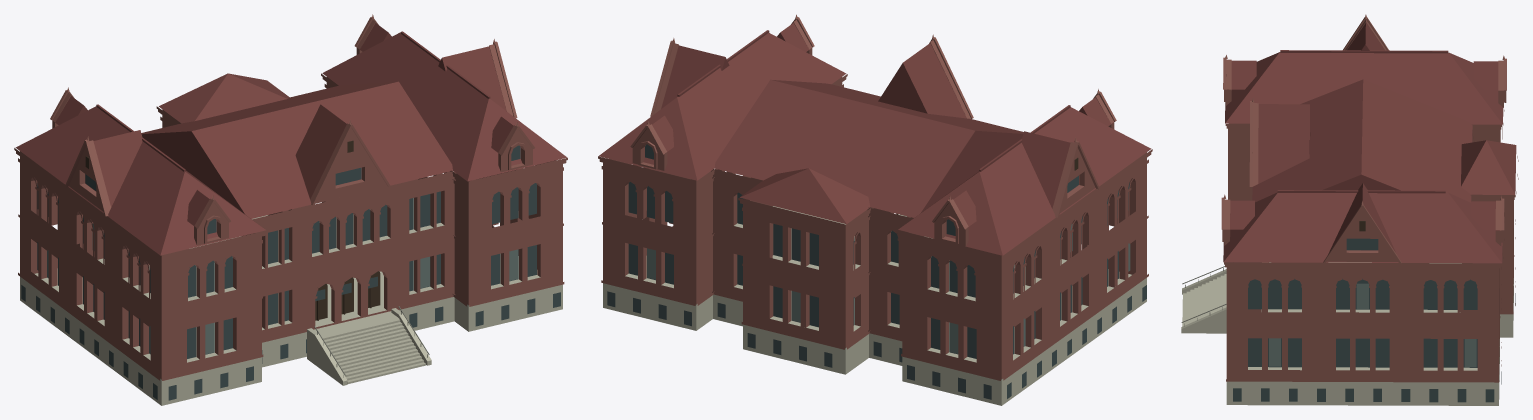
Rendered from old-orange-county-courthouse-far.glb.
3 views of the same model, side by side, from view 1: azimuth 30°, elevation 25°; view 2: azimuth 150°, elevation 25°; view 3: azimuth 270°, elevation 25° (orthographic). The views are drawn at different scales.
Visible parts, largest first — view 1: old-orange-county-courthouse-0-sandstone, old-orange-county-courthouse-0-roof, old-orange-county-courthouse-0-granite, old-orange-county-courthouse-0-glass, old-orange-county-courthouse-0-wood, old-orange-county-courthouse-0-glow; view 2: old-orange-county-courthouse-0-sandstone, old-orange-county-courthouse-0-roof, old-orange-county-courthouse-0-granite, old-orange-county-courthouse-0-glass, old-orange-county-courthouse-0-glow; view 3: old-orange-county-courthouse-0-roof, old-orange-county-courthouse-0-sandstone, old-orange-county-courthouse-0-granite, old-orange-county-courthouse-0-glass, old-orange-county-courthouse-0-glow.
Part boxes in pixels (<box>): old-orange-county-courthouse-0-sandstone: <box>14,14,567,380</box>; old-orange-county-courthouse-0-roof: <box>15,23,566,255</box>; old-orange-county-courthouse-0-granite: <box>20,198,562,405</box>; old-orange-county-courthouse-0-glass: <box>21,145,560,400</box>; old-orange-county-courthouse-0-wood: <box>85,140,380,320</box>; old-orange-county-courthouse-0-glow: <box>47,223,518,354</box>; old-orange-county-courthouse-0-sandstone: <box>598,14,1152,380</box>; old-orange-county-courthouse-0-roof: <box>598,23,1151,255</box>; old-orange-county-courthouse-0-granite: <box>603,206,1146,405</box>; old-orange-county-courthouse-0-glass: <box>607,144,1146,399</box>; old-orange-county-courthouse-0-glow: <box>647,224,1130,353</box>; old-orange-county-courthouse-0-roof: <box>1223,23,1516,263</box>; old-orange-county-courthouse-0-sandstone: <box>1221,14,1518,382</box>; old-orange-county-courthouse-0-granite: <box>1181,262,1513,405</box>; old-orange-county-courthouse-0-glass: <box>1233,238,1515,402</box>; old-orange-county-courthouse-0-glow: <box>1269,283,1476,367</box>.
Bounding box in the file's own units: 43.94 × 23.29 × 33.05.
